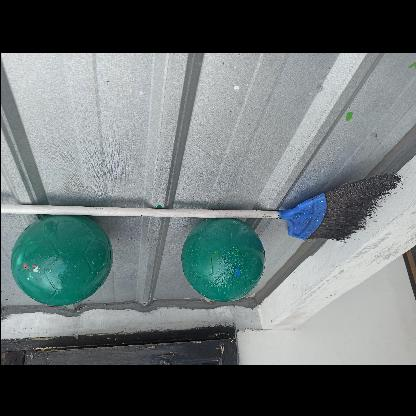green_ball: (9, 208, 108, 306), (180, 217, 264, 301)
